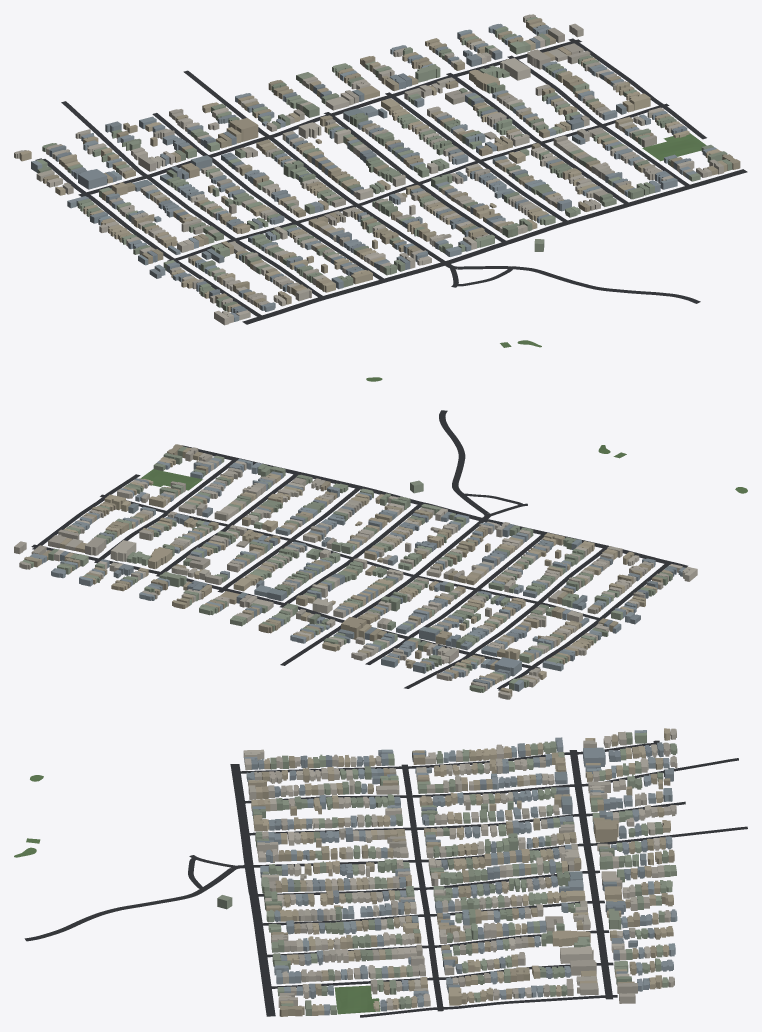
The model's file is tile_2_13.glb.
3 views of the same model, one above another, from view 1: azimuth 30°, elevation 25°; view 2: azimuth 150°, elevation 25°; view 3: azimuth 270°, elevation 25° (orthographic). The views are drawn at different scales.
Visible parts, largest first — view 1: bld_2_13, road_2_13, grn_2_13; view 2: bld_2_13, road_2_13, grn_2_13; view 3: bld_2_13, road_2_13, grn_2_13.
Part boxes in pixels (bbox=[...]): bld_2_13: bbox=[14, 14, 740, 325]; road_2_13: bbox=[35, 38, 747, 324]; grn_2_13: bbox=[366, 133, 706, 381]; bld_2_13: bbox=[14, 444, 697, 699]; road_2_13: bbox=[31, 410, 687, 690]; grn_2_13: bbox=[140, 445, 747, 493]; bld_2_13: bbox=[217, 728, 677, 1016]; road_2_13: bbox=[24, 740, 747, 1017]; grn_2_13: bbox=[14, 775, 380, 1014].
Size of the model in its own units: 812 by 54.71 by 898.
